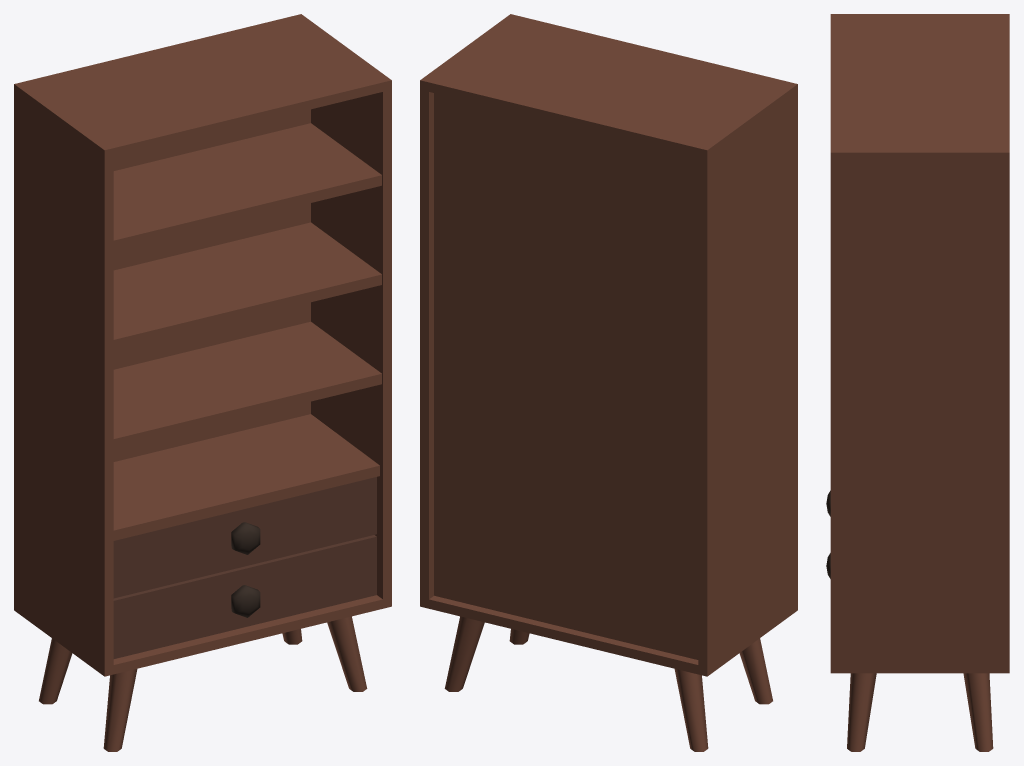
The model's file is Shelf_01.fbx.
The picture shows the model from 3 angles, left to right: view 1: azimuth 30°, elevation 25°; view 2: azimuth 150°, elevation 25°; view 3: azimuth 270°, elevation 25°; orthographic projection.
Parts seen in each view (by area): view 1: Shelf_01, Shelf_01_Drawer_Lower, Shelf_01_Drawer_Upper; view 2: Shelf_01; view 3: Shelf_01.
Part boxes in pixels (x1,y1,x2,y2): Shelf_01: [14, 14, 391, 751]; Shelf_01_Drawer_Lower: [113, 535, 376, 658]; Shelf_01_Drawer_Upper: [113, 477, 376, 598]; Shelf_01: [420, 14, 797, 751]; Shelf_01: [830, 14, 1009, 751].
Size of the model in its own units: 0.8524 by 1.74 by 0.4763.
